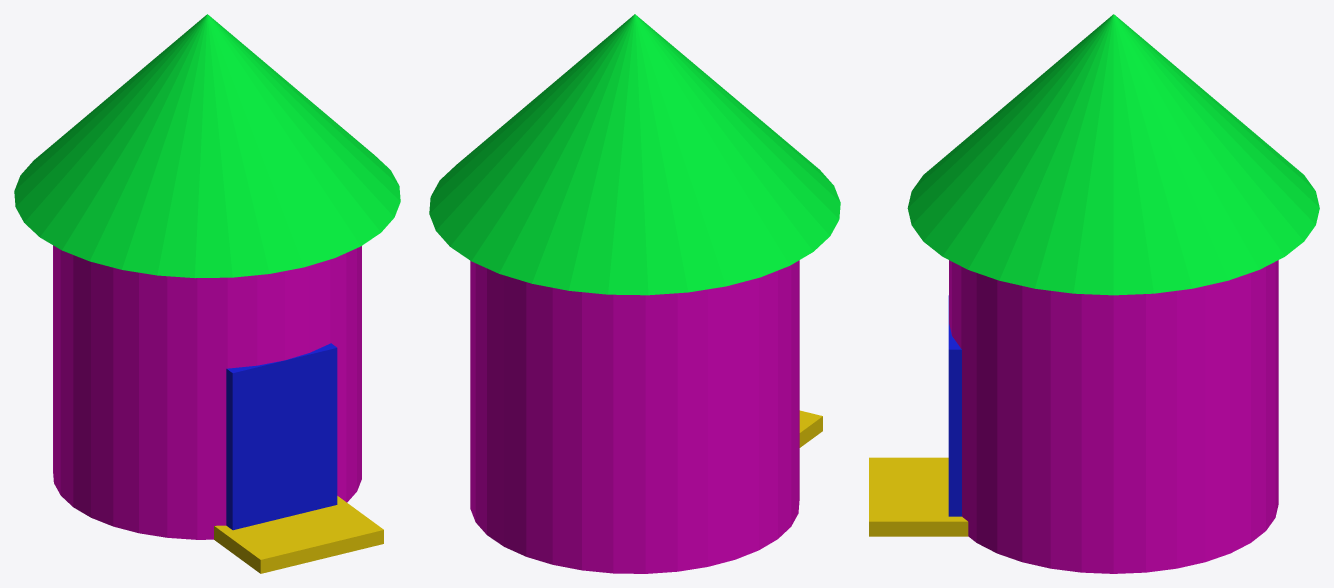
Rendered from House.fbx.
The picture shows the model from 3 angles, left to right: view 1: azimuth 30°, elevation 25°; view 2: azimuth 150°, elevation 25°; view 3: azimuth 270°, elevation 25°; orthographic projection. The views are drawn at different scales.
Visible parts, largest first — view 1: Cube.001; view 2: Cube.001; view 3: Cube.001.
Boxes of the visible parts, x1=… form: Cube.001: x1=14, y1=14, x2=400, y2=573; Cube.001: x1=429, y1=14, x2=840, y2=573; Cube.001: x1=869, y1=14, x2=1319, y2=573.
Bounding box in the file's own units: 250 × 328 × 273.
